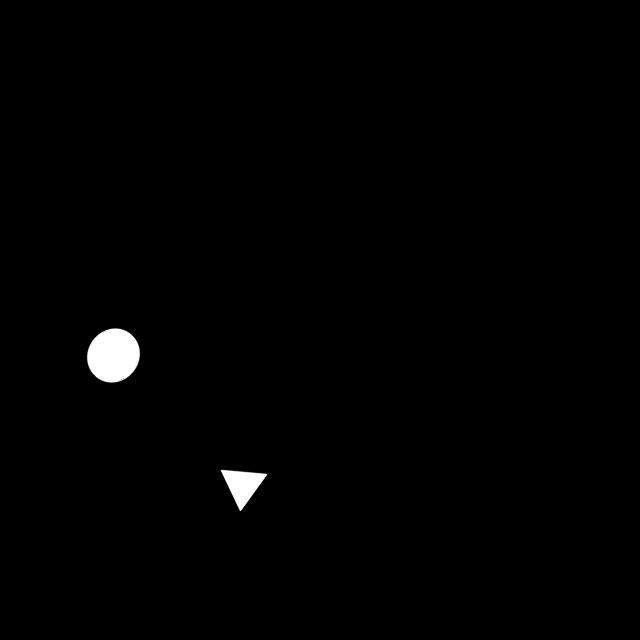Circle: (76, 315, 151, 400)
Triangle: (210, 455, 274, 525)
